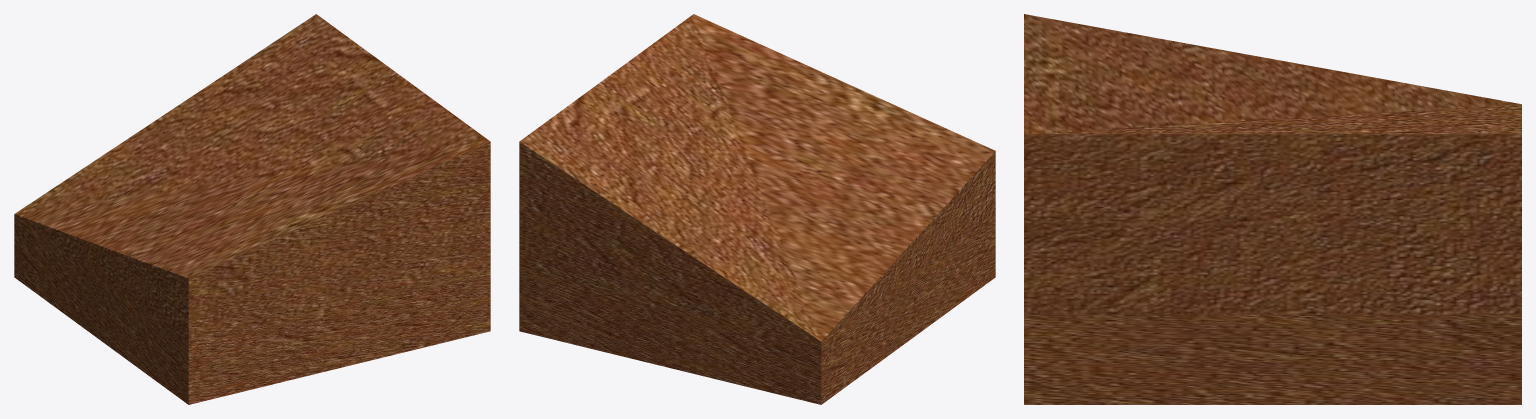
Rendered from Map0221.fbx.
3 views of the same model, side by side, from view 1: azimuth 30°, elevation 25°; view 2: azimuth 150°, elevation 25°; view 3: azimuth 270°, elevation 25° (orthographic). The views are drawn at different scales.
Parts seen in each view (by area): view 1: Map0221, Map0000; view 2: Map0221, Map0000; view 3: Map0221, Map0000.
Part boxes in pixels (left/top/right/bottom): Map0221: left=14, top=14, right=490, bottom=341; Map0000: left=14, top=214, right=490, bottom=404; Map0221: left=519, top=14, right=995, bottom=341; Map0000: left=519, top=214, right=995, bottom=404; Map0221: left=1024, top=14, right=1521, bottom=314; Map0000: left=1024, top=314, right=1521, bottom=404.
Bounding box in the file's own units: 200 × 120 × 200.
2 materials, 2 textured.
